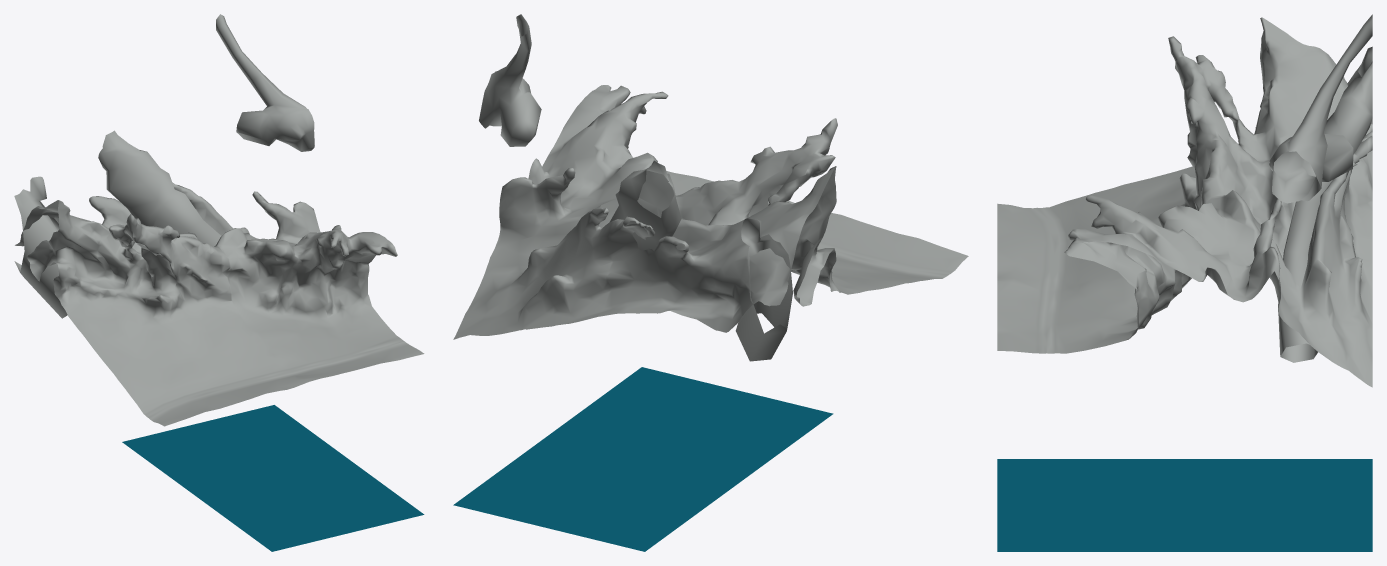
3 views of the same model, side by side, from view 1: azimuth 30°, elevation 25°; view 2: azimuth 150°, elevation 25°; view 3: azimuth 270°, elevation 25° (orthographic). The views are drawn at different scales.
Parts seen in each view (by area): view 1: G:\FFXIV-MapTools\exports\s1f3\bg\ffxiv\sea_s1\fld\s1f3\bgpl (×19); view 2: G:\FFXIV-MapTools\exports\s1f3\bg\ffxiv\sea_s1\fld\s1f3\bgpl (×18); view 3: G:\FFXIV-MapTools\exports\s1f3\bg\ffxiv\sea_s1\fld\s1f3\bgpl (×19).
Part boxes in pixels (x1,y1,x2,y2): G:\FFXIV-MapTools\exports\s1f3\bg\ffxiv\sea_s1\fld\s1f3\bgpl (×19): (14,14,424,551); G:\FFXIV-MapTools\exports\s1f3\bg\ffxiv\sea_s1\fld\s1f3\bgpl (×18): (453,53,965,551); G:\FFXIV-MapTools\exports\s1f3\bg\ffxiv\sea_s1\fld\s1f3\bgpl (×19): (997,14,1372,551).
Size of the model in its own units: 128 by 190 by 128.
